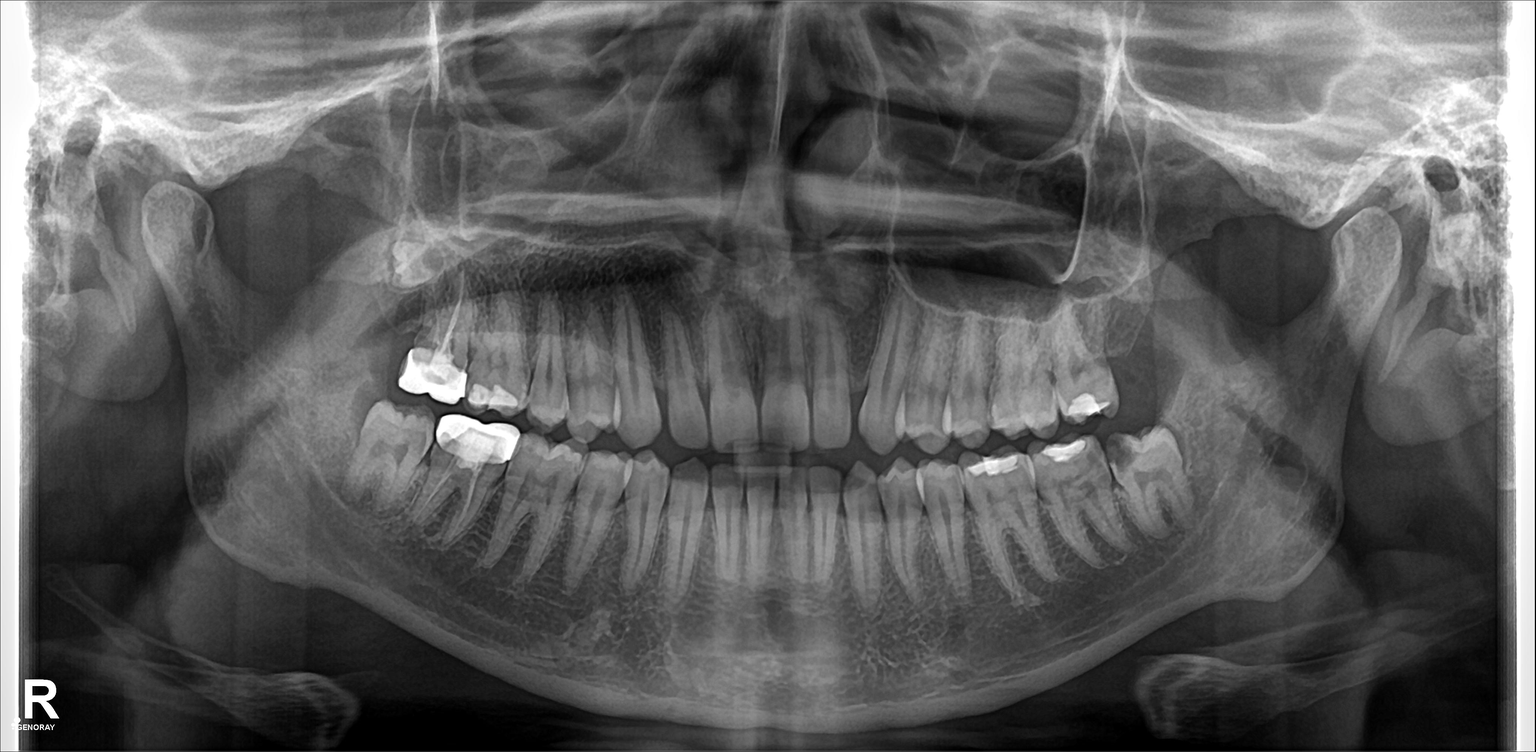Dental Caries: (1110, 436, 1137, 471)
Endodontically Treated Tooth: (432, 415, 504, 550), (402, 281, 465, 404)
Missing Tooth: (1106, 296, 1162, 410)
